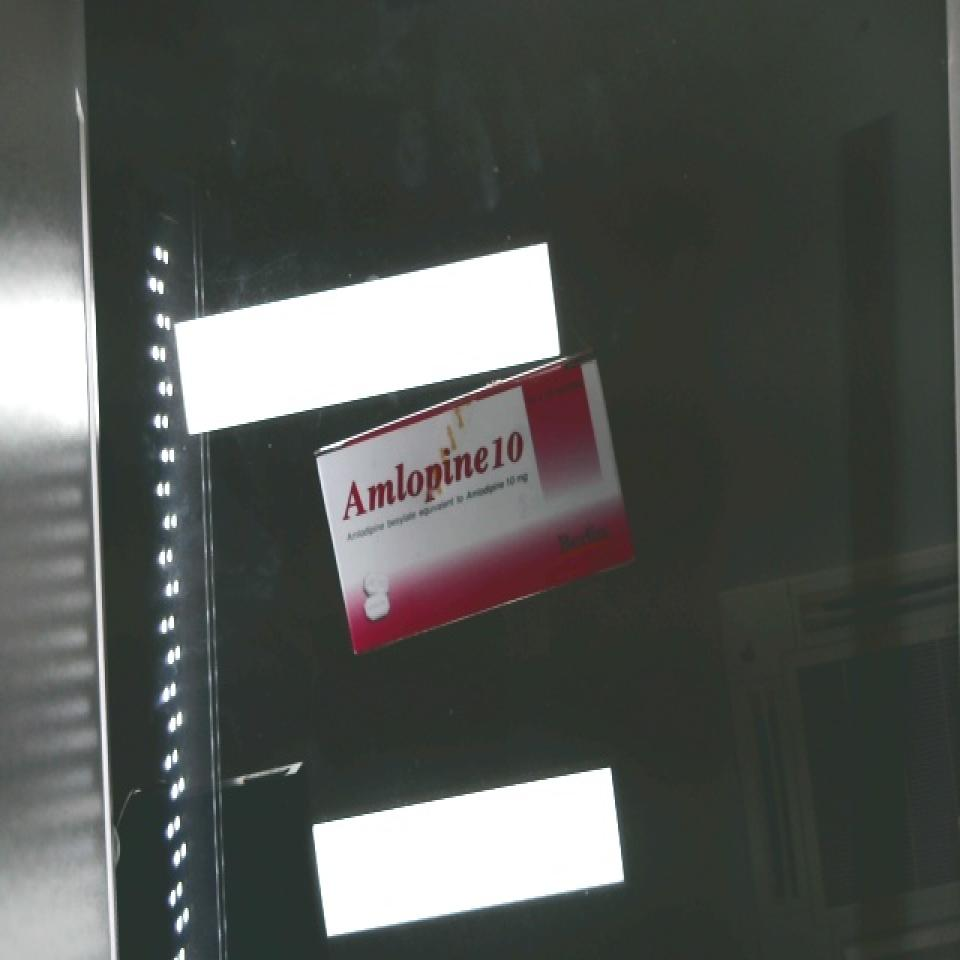medicine_box: (288, 353, 659, 655)
medicine_label_obb: (317, 407, 544, 540)
